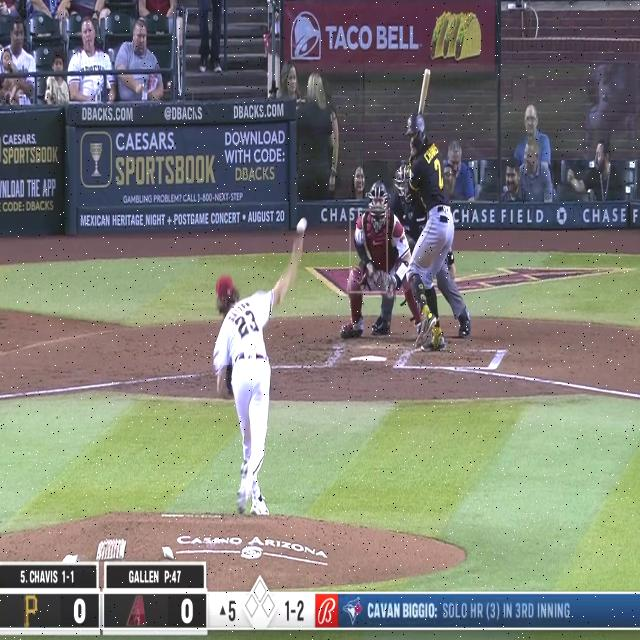baseball: (297, 216, 307, 234)
